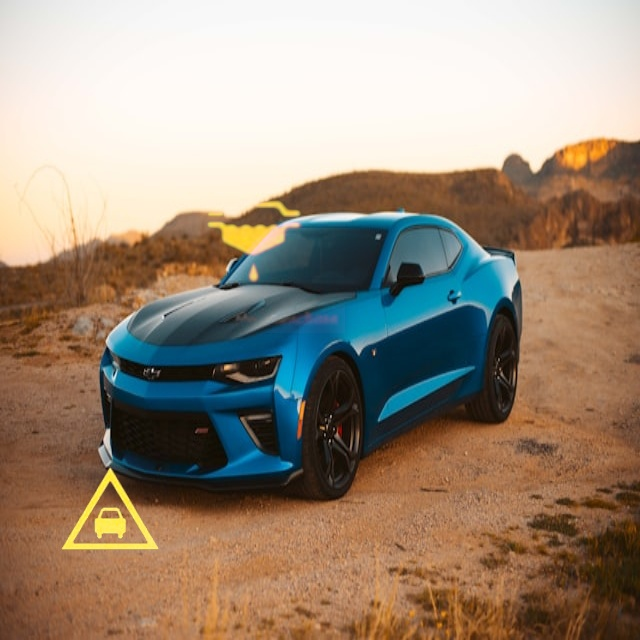symbol: (164, 152, 345, 333), (50, 451, 170, 571)
